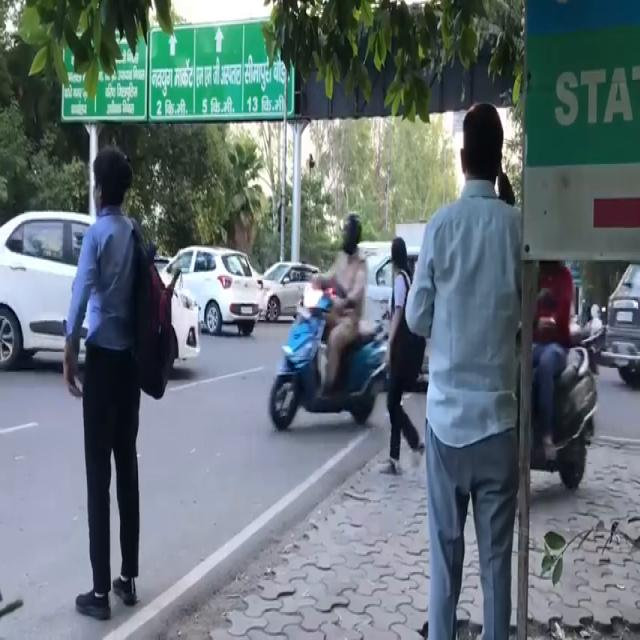MOTORCYCLE: (265, 281, 386, 427), (528, 309, 597, 498)
